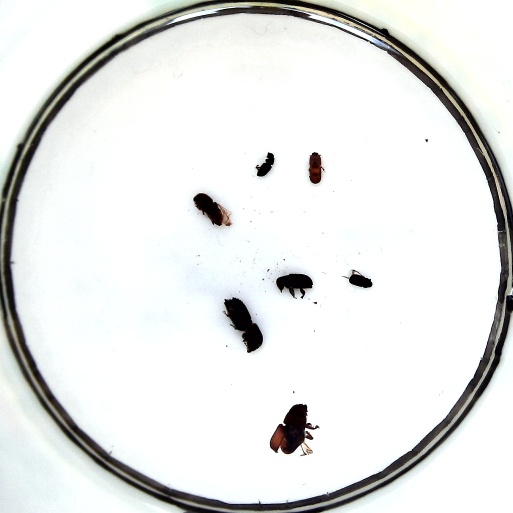acuminatus: (307, 152, 323, 185)
armandi: (192, 190, 226, 226), (276, 273, 312, 300)
boerner: (224, 297, 265, 353)
coleoptera: (256, 151, 274, 178), (348, 272, 373, 289)
leconte: (268, 403, 312, 454)
